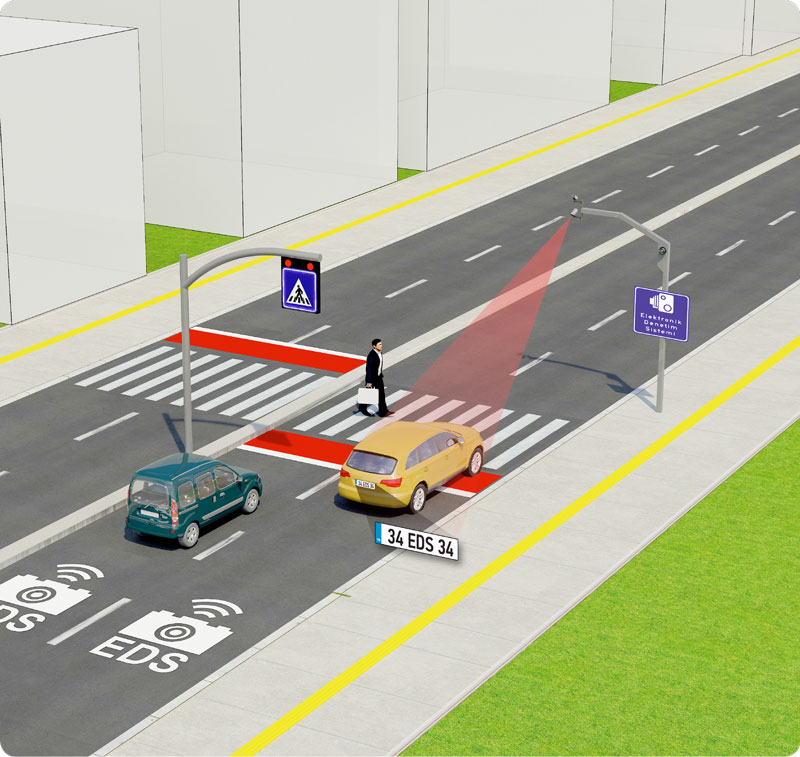Car: (335, 419, 488, 513), (119, 450, 277, 535)
CrossSign: (278, 256, 323, 323)
Crosswalk: (68, 337, 330, 427)
Person: (357, 334, 398, 417)
